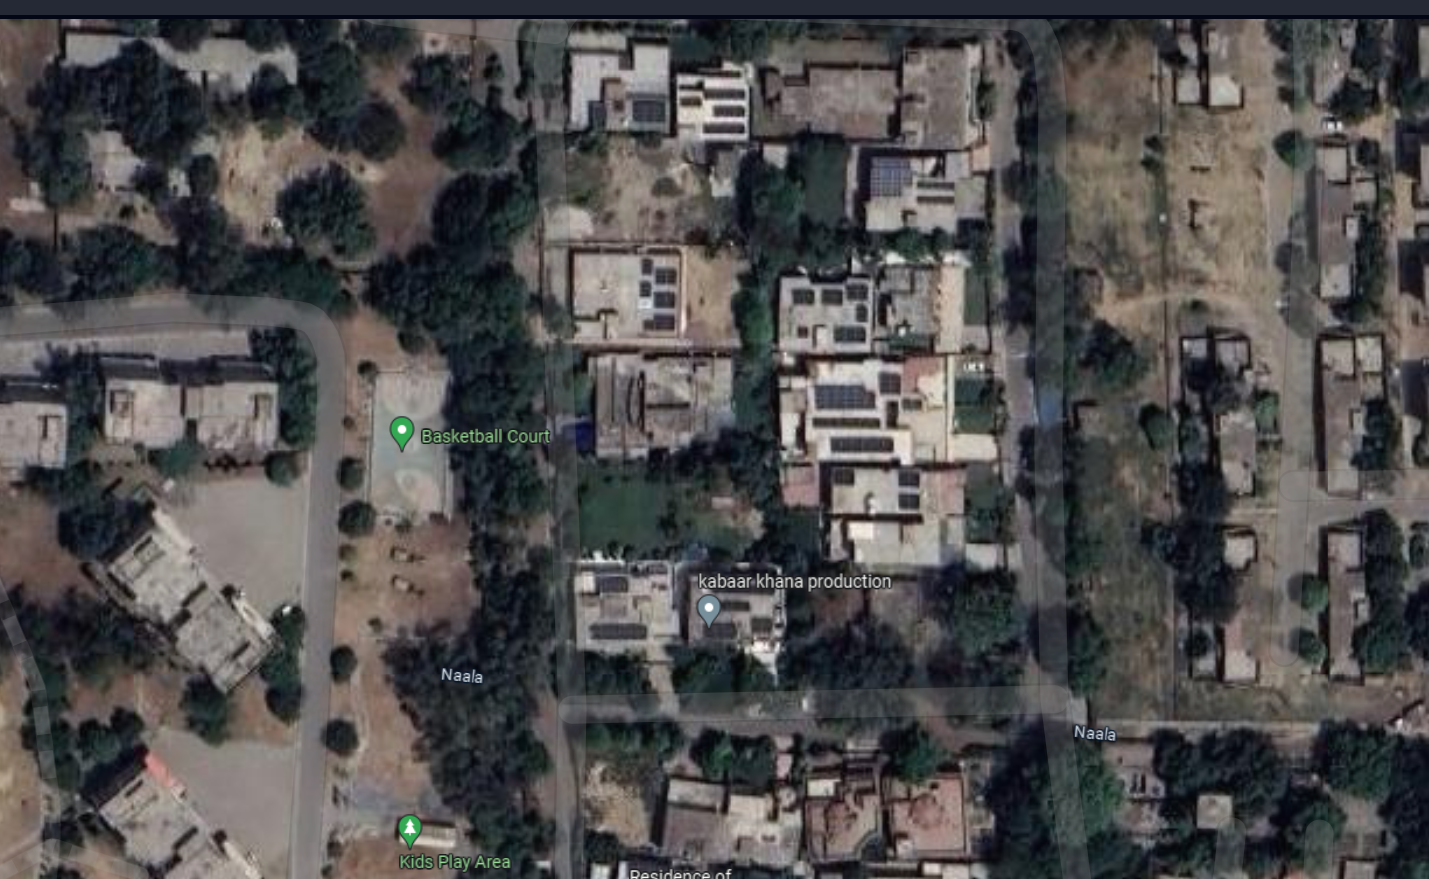solar-panel: (637, 257, 682, 328), (811, 378, 882, 417), (869, 150, 918, 202), (690, 90, 749, 132), (827, 435, 902, 457), (591, 623, 654, 643), (899, 469, 925, 512), (924, 174, 950, 211), (632, 100, 669, 125), (722, 601, 751, 613)
